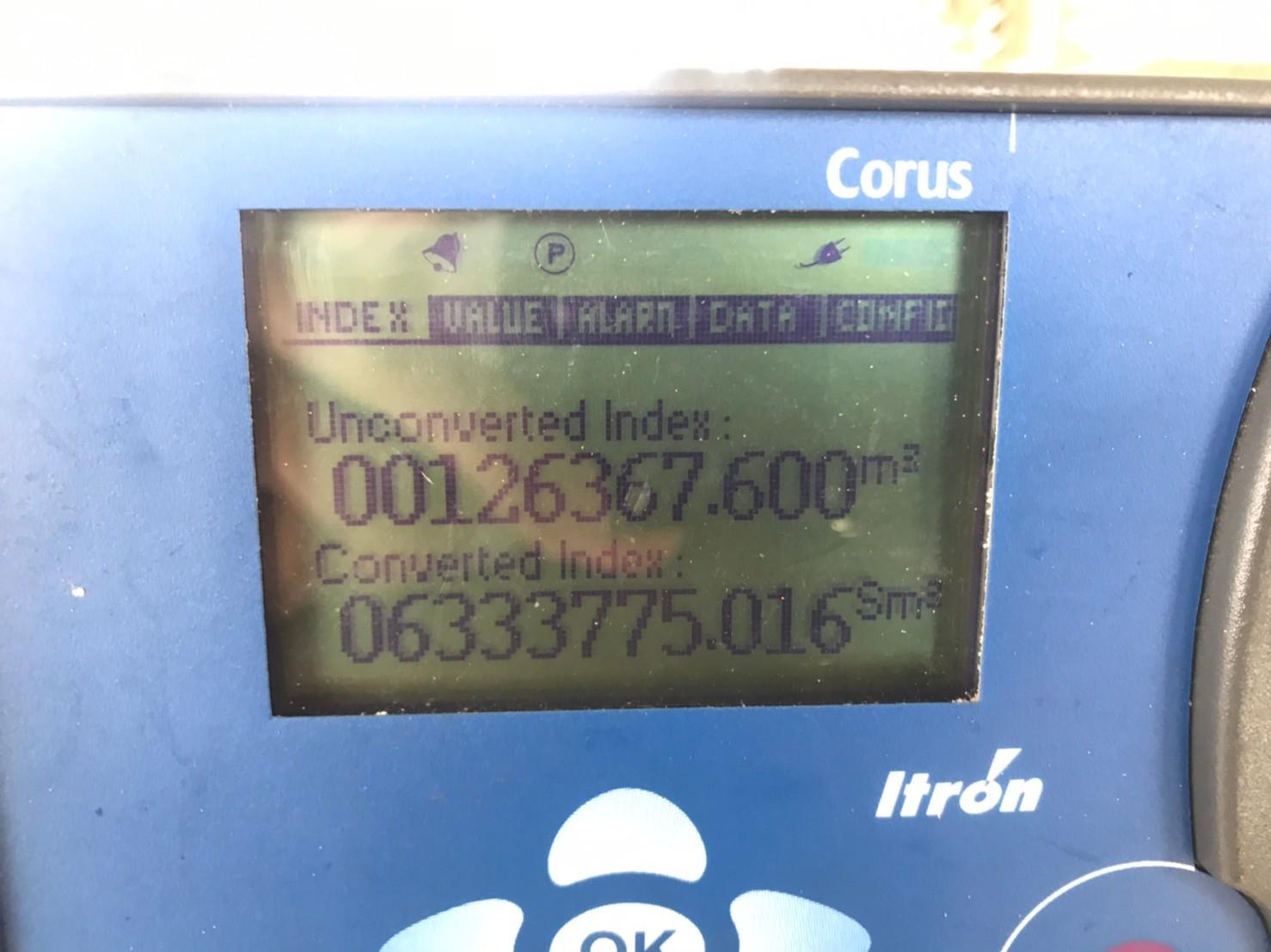digital_screen: (240, 206, 1009, 717)
